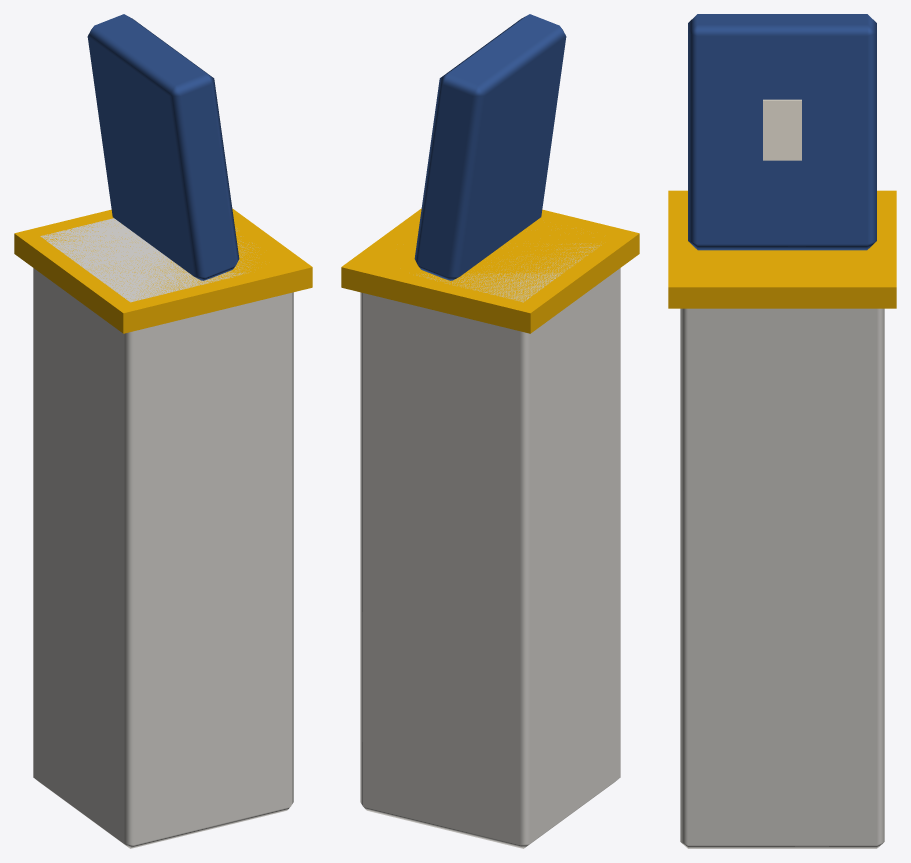
File: station_transport_ausstattung_2_0.glb
3 renders of one model, left to right at view 1: azimuth 30°, elevation 25°; view 2: azimuth 150°, elevation 25°; view 3: azimuth 270°, elevation 25°, orthographic. The views are drawn at different scales.
Parts seen in each view (by area): view 1: station_transport_ausstattung_2_0; view 2: station_transport_ausstattung_2_0; view 3: station_transport_ausstattung_2_0.
Part boxes in pixels (x1,y1,x2,y2): station_transport_ausstattung_2_0: (14, 14, 312, 848); station_transport_ausstattung_2_0: (341, 14, 639, 848); station_transport_ausstattung_2_0: (668, 14, 896, 848).
Bounding box in the file's own units: 0.29 × 1.1 × 0.29.
